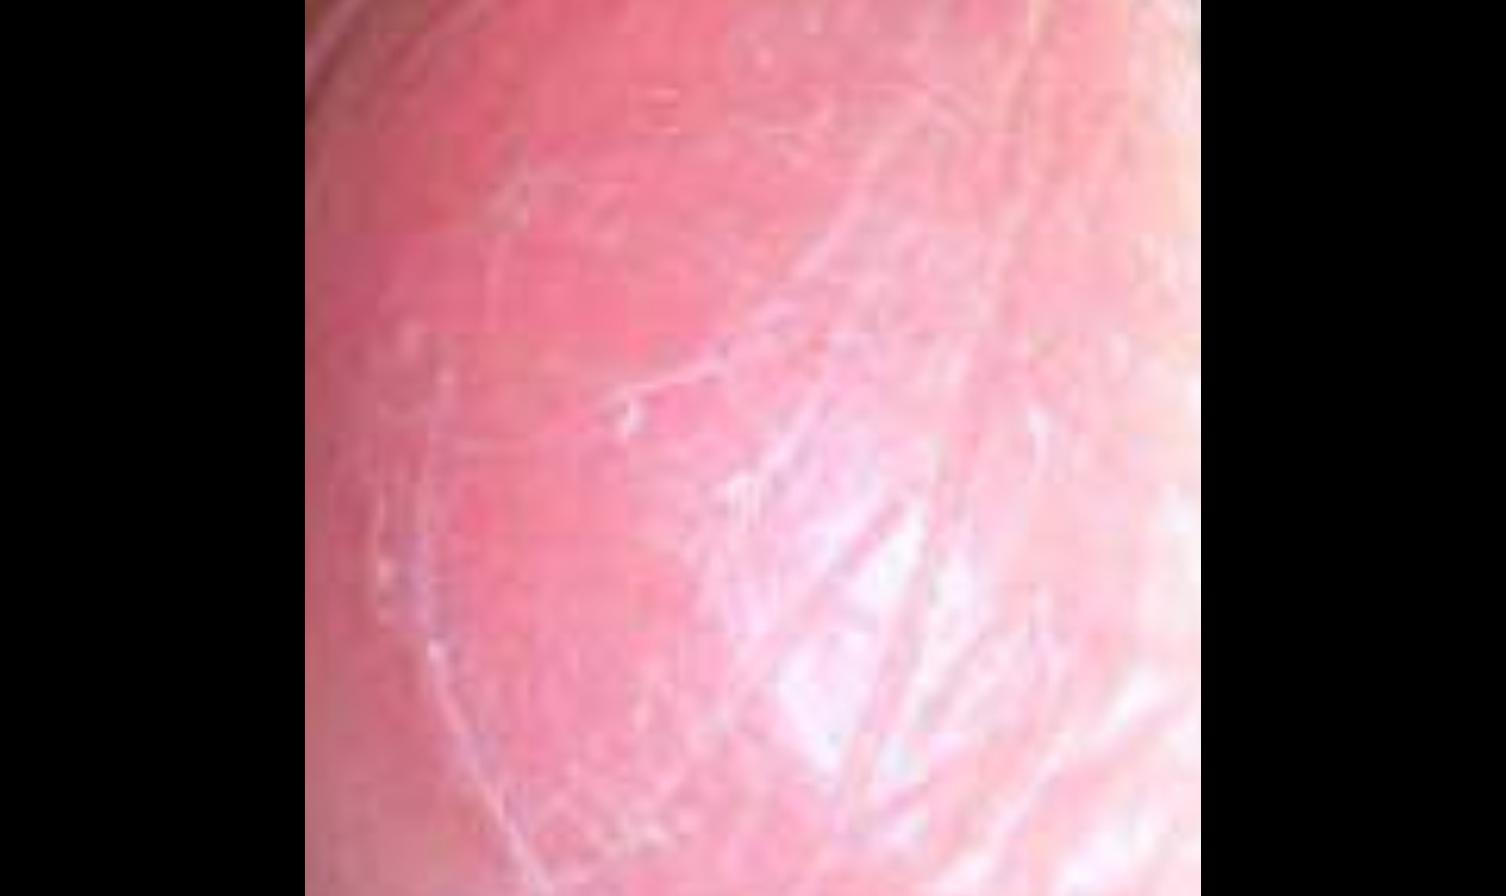Stage1: (309, 0, 1158, 896)
